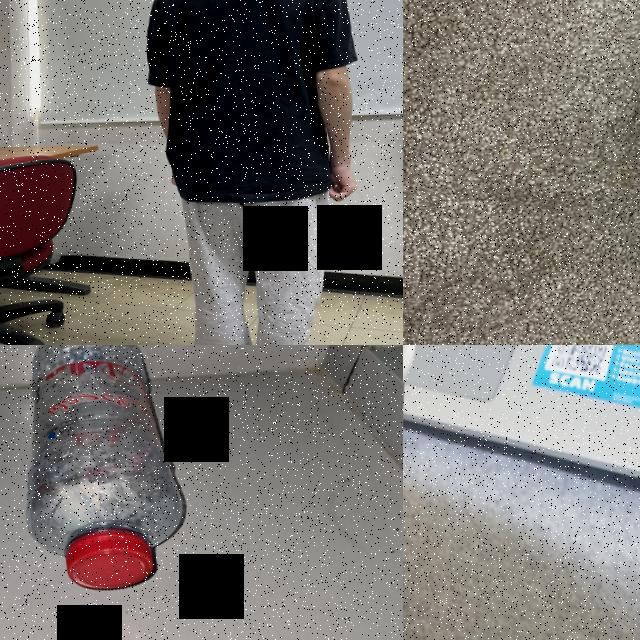bottle: (23, 345, 190, 591)
